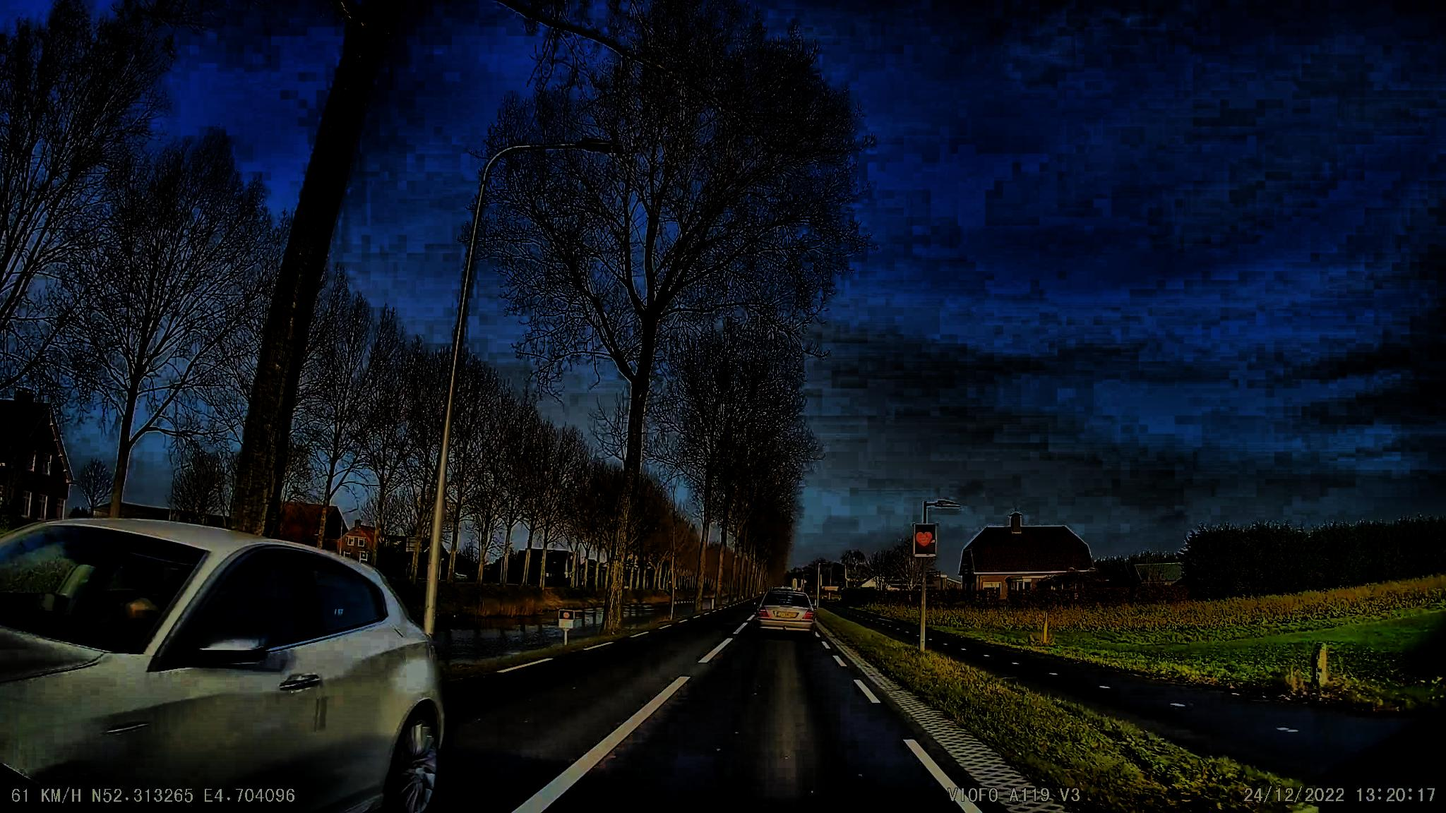Roads: (424, 601, 981, 813)
